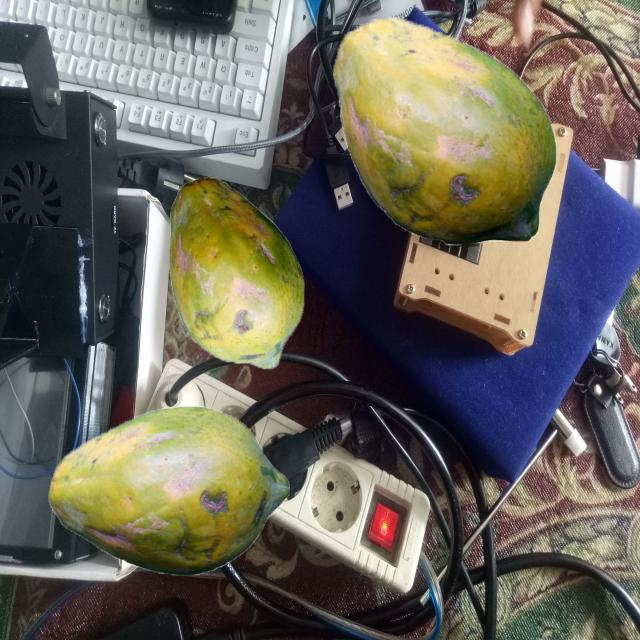Pepaya rippen: (334, 7, 556, 274), (49, 405, 291, 578), (159, 188, 301, 376)
